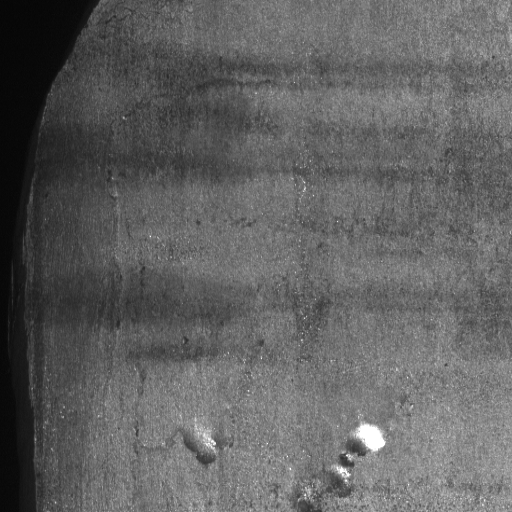aokeng: (321, 417, 388, 500), (177, 421, 221, 467)
